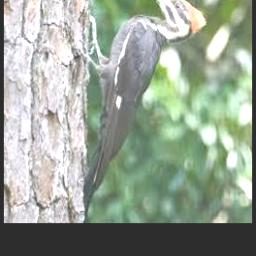Woodpecker: (81, 0, 208, 220)
